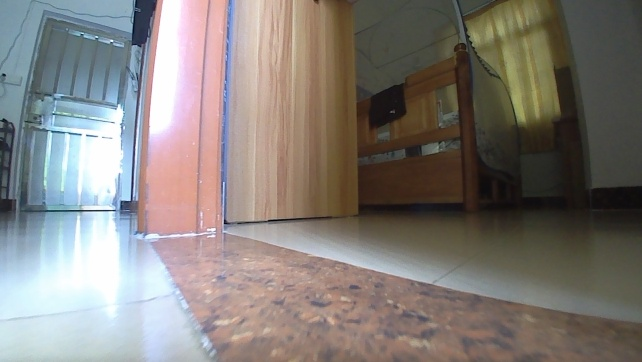bed1: (358, 38, 528, 217)
door_anno: (13, 15, 135, 213)
wire: (1, 0, 139, 68)
